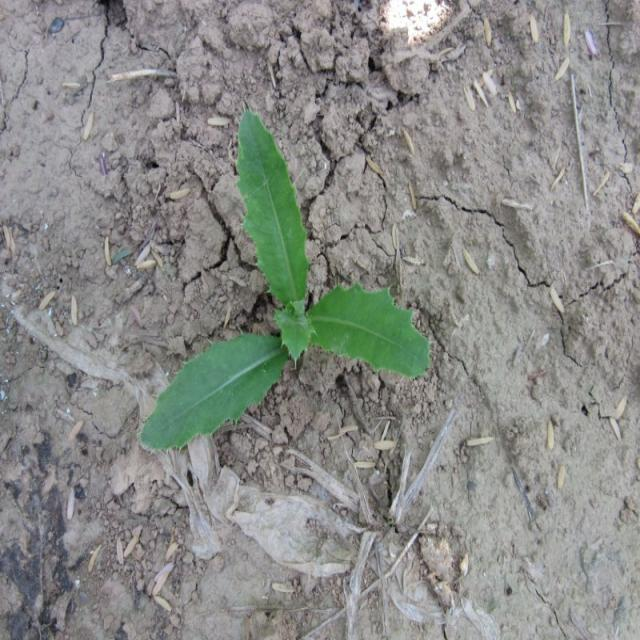field_thistle: (174, 94, 416, 452)
